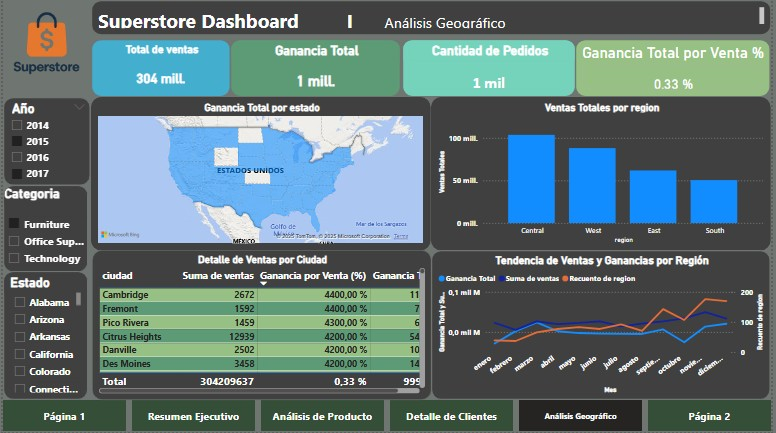

The dashboard page shown, as its layout file describes it:
{"tool":"powerbi","page":{"name":"Análisis Geográfico","canvas":[1280,720],"ordinal":4},"visuals":[{"type":"image","box":[0,0,146.3,147.8],"z":0},{"type":"pageNavigator","box":[0,667.3,1280.5,52.7],"z":1000},{"type":"textbox","box":[146.3,0,1134.1,58.5],"z":2000},{"type":"cardVisual","title":"Ganancia Total por Venta %","fields":{"Data":["superstore_procesado.Ganancia por Venta (%)"]},"box":[953.7,64.4,326.3,96.6],"z":3000},{"type":"cardVisual","title":"Cantidad de Pedidos","fields":{"Data":["superstore_procesado.Cantidad de Pedidos"]},"box":[664.4,64.4,289.8,96.6],"z":4000},{"type":"cardVisual","title":"Ganancia Total","fields":{"Data":["superstore_procesado.Ganancia Total"]},"box":[379,64.4,285.4,96.6],"z":5000},{"type":"cardVisual","title":"Total de ventas","fields":{"Data":["superstore_procesado.Ventas Totales"]},"box":[146.3,64.4,232.7,96.6],"z":6000},{"type":"slicer","fields":{"Values":["superstore_procesado.año"]},"box":[0,161,146.3,147.8],"z":7000},{"type":"slicer","title":"Categoria","fields":{"Values":["superstore_procesado.categoria"]},"box":[0,308.8,142,146.3],"z":8000},{"type":"slicer","title":"Estado","fields":{"Values":["superstore_procesado.estado"]},"box":[0,452.2,142,215.1],"z":9000},{"type":"filledMap","fields":{"Category":["superstore_procesado.estado"]},"box":[146.3,161,566.3,256.1],"z":9001},{"type":"clusteredColumnChart","fields":{"Category":["superstore_procesado.region"],"Y":["superstore_procesado.Ventas Totales"]},"box":[714.1,161,566.3,256.1],"z":9002},{"type":"tableEx","title":"Detalle de Ventas por Ciudad","fields":{"Values":["superstore_procesado.ciudad","Sum(superstore_procesado.ventas)","superstore_procesado.Ganancia por Venta (%)","superstore_procesado.Ganancia Total"]},"box":[147.8,417.1,566.3,250.2],"z":9003},{"type":"lineChart","title":" Tendencia de Ventas y Ganancias por Región","fields":{"Category":["superstore_procesado.fecha_pedido.Variación.Jerarquía de fechas.Mes"],"Y":["superstore_procesado.Ganancia Total","Sum(superstore_procesado.ventas)"],"Y2":["CountNonNull(superstore_procesado.region)"]},"box":[714.1,417.1,566.3,250.2],"z":9004}]}

Visuals, with their boxes on the page's 1280x720 design canvas (x1, y1, x2, y2). These are canvas units, not pixel positions in the 776x433 screenshot, which may show the page scaled, cropped or inside an application window:
image: Rect(0, 0, 146, 148)
pageNavigator: Rect(0, 667, 1280, 720)
textbox: Rect(146, 0, 1280, 58)
"Ganancia Total por Venta %" cardVisual: Rect(954, 64, 1280, 161)
"Cantidad de Pedidos" cardVisual: Rect(664, 64, 954, 161)
"Ganancia Total" cardVisual: Rect(379, 64, 664, 161)
"Total de ventas" cardVisual: Rect(146, 64, 379, 161)
slicer - superstore_procesado.año: Rect(0, 161, 146, 309)
"Categoria" slicer: Rect(0, 309, 142, 455)
"Estado" slicer: Rect(0, 452, 142, 667)
filledMap - superstore_procesado.estado: Rect(146, 161, 713, 417)
clusteredColumnChart - superstore_procesado.region x superstore_procesado.Ventas Totales: Rect(714, 161, 1280, 417)
"Detalle de Ventas por Ciudad" tableEx: Rect(148, 417, 714, 667)
" Tendencia de Ventas y Ganancias por Región" lineChart: Rect(714, 417, 1280, 667)
